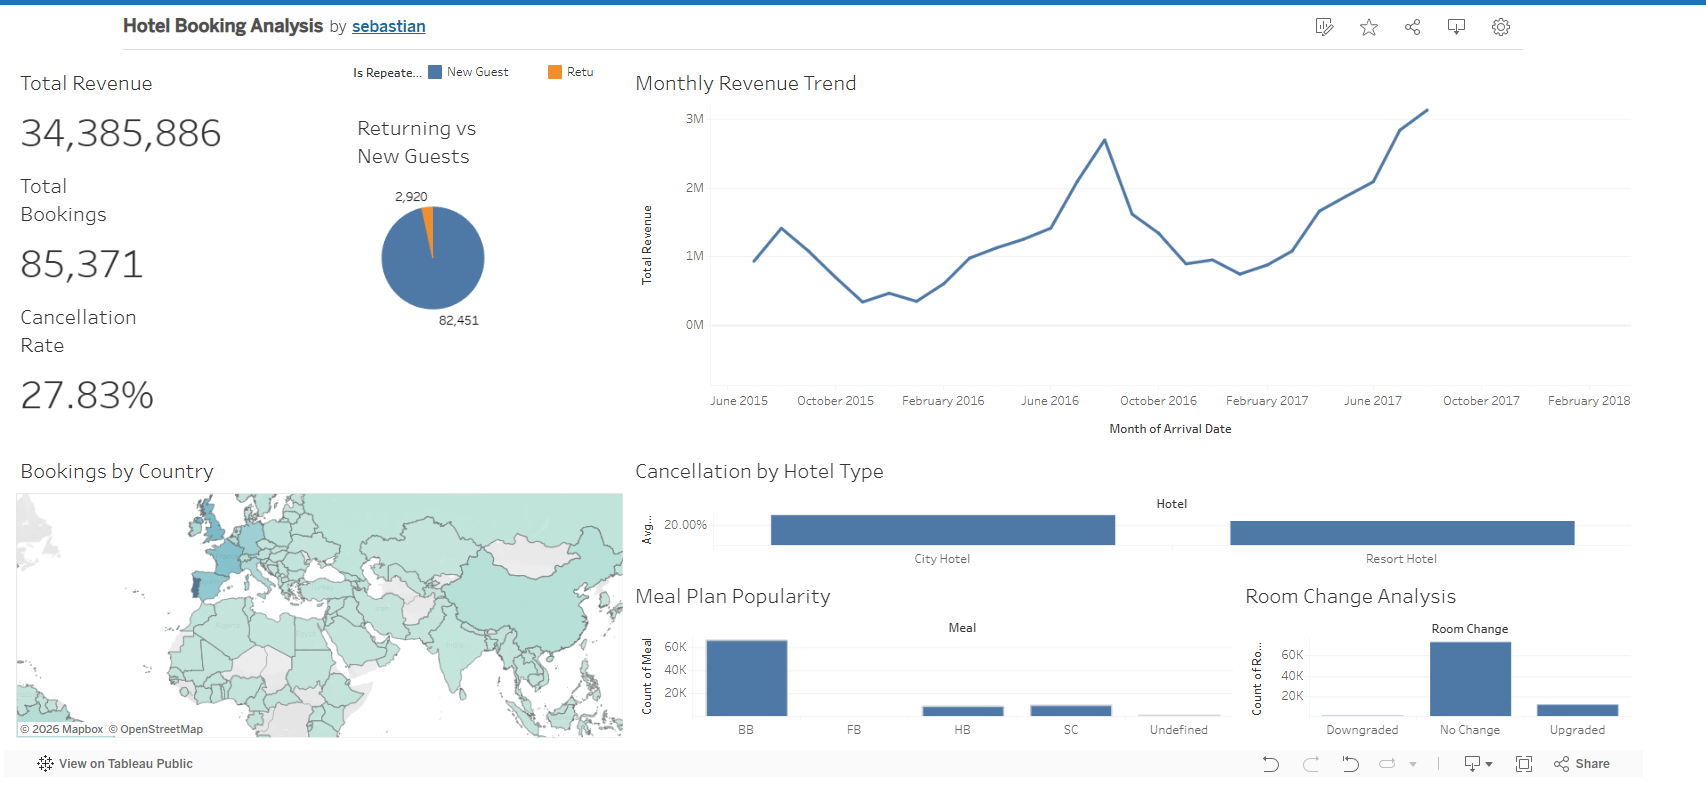

The page's visual inventory and layout, read from the dashboard file:
{"tool":"tableau","page":{"name":"Hotel Booking Analysis Dashboard","canvas":[1000,1000],"units":"permille","ordinal":0},"visuals":[{"type":"worksheet","title":"Total Revenue","mark":"Text","box":[5.3,8.8,205.3,135]},{"type":"legend","title":"Returning vs New Guests","param":"[federated.0q473zd0m7rt2u122suml12o9d7e].[none:is_repeated_guest:ok]","box":[210.5,8.8,169.7,79]},{"type":"worksheet","title":"Monthly Revenue Trend","mark":"Automatic","rows":["total_revenue"],"cols":["arrival_date"],"box":[380.2,8.8,614.5,557.6]},{"type":"worksheet","title":"Returning vs New Guests","mark":"Pie","box":[210.5,87.8,169.7,376.5]},{"type":"worksheet","title":"Total Bookings","mark":"Automatic","box":[5.3,143.8,205.3,173.4]},{"type":"worksheet","title":"Cancellation Rate","mark":"Automatic","box":[5.3,317.2,205.3,173.4]},{"type":"worksheet","title":"Bookings by Country","mark":"Automatic","box":[5.3,566.4,375,424.8]},{"type":"worksheet","title":"Cancellation by Hotel Type","mark":"Automatic","rows":["is_canceled"],"cols":["hotel"],"box":[380.3,566.4,614.5,179.2]},{"type":"worksheet","title":"Meal Plan Popularity","mark":"Automatic","rows":["meal"],"cols":["meal"],"box":[380.3,745.6,369,245.6]},{"type":"worksheet","title":"Room Change Analysis","mark":"Automatic","rows":["room_change"],"cols":["room_change"],"box":[749.2,745.6,245.5,245.6]}]}

Visuals, with their boxes on the dashboard's canvas, which has no fixed pixel size, in thousandths of its width and height (x1, y1, x2, y2). These are canvas units, not pixel positions in the 1706x785 screenshot, which may show the page scaled, cropped or inside an application window:
"Total Revenue" worksheet (Text marks): l=5, t=9, r=211, b=144
"Returning vs New Guests" legend: l=210, t=9, r=380, b=88
"Monthly Revenue Trend" worksheet: l=380, t=9, r=995, b=566
"Returning vs New Guests" worksheet (Pie marks): l=210, t=88, r=380, b=464
"Total Bookings" worksheet: l=5, t=144, r=211, b=317
"Cancellation Rate" worksheet: l=5, t=317, r=211, b=491
"Bookings by Country" worksheet: l=5, t=566, r=380, b=991
"Cancellation by Hotel Type" worksheet: l=380, t=566, r=995, b=746
"Meal Plan Popularity" worksheet: l=380, t=746, r=749, b=991
"Room Change Analysis" worksheet: l=749, t=746, r=995, b=991
